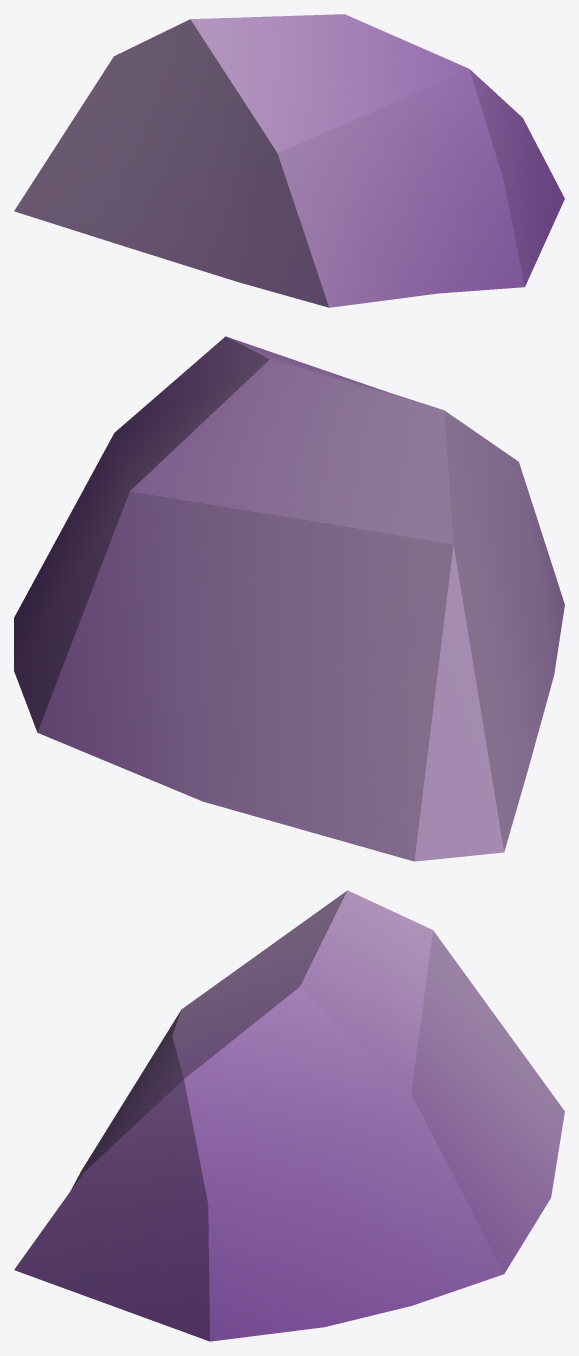
Rendered from Night_Stone_008.FBX.
The picture shows the model from 3 angles, top to bottom: view 1: azimuth 30°, elevation 25°; view 2: azimuth 150°, elevation 25°; view 3: azimuth 270°, elevation 25°; orthographic projection. The views are drawn at different scales.
Parts seen in each view (by area): view 1: Night_Stone_008; view 2: Night_Stone_008; view 3: Night_Stone_008.
Part boxes in pixels (x1,y1,x2,y2): Night_Stone_008: (14,14,564,307); Night_Stone_008: (14,336,564,861); Night_Stone_008: (14,890,564,1341).
Size of the model in its own units: 151 by 73.28 by 139.
Materials: 1 (1 with a texture image).
